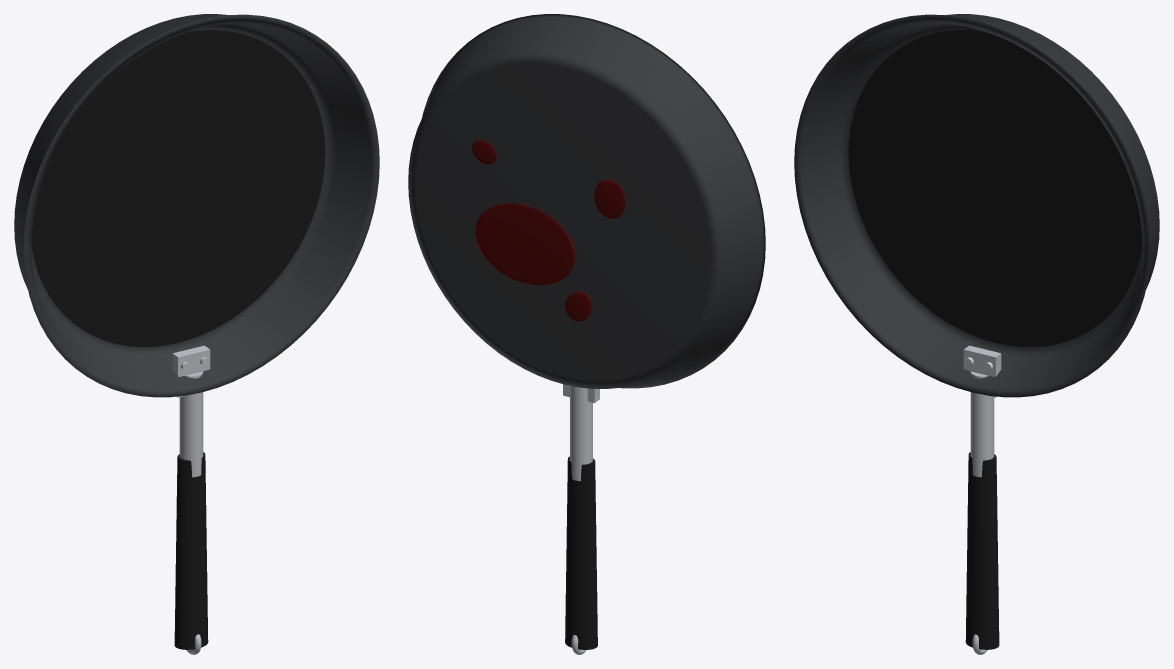
File: sarten.glb
The picture shows the model from 3 angles, left to right: view 1: azimuth 30°, elevation 25°; view 2: azimuth 150°, elevation 25°; view 3: azimuth 330°, elevation 25°; orthographic projection. The views are drawn at different scales.
Parts seen in each view (by area): view 1: fondo_interior, sarten, mango, vastago, soporte; view 2: sarten, base_sangre_1, mango, vastago, base_sangre_2, base_sangre_4; view 3: fondo_interior, sarten, mango, vastago, soporte.
Boxes of the visible parts, left/top/right/bottom form: fondo_interior: left=31, top=30, right=325, bottom=346; sarten: left=14, top=14, right=379, bottom=397; mango: left=174, top=452, right=208, bottom=649; vastago: left=179, top=371, right=203, bottom=477; soporte: left=172, top=345, right=210, bottom=397; sarten: left=408, top=14, right=765, bottom=388; base_sangre_1: left=475, top=203, right=575, bottom=285; mango: left=565, top=456, right=597, bottom=649; vastago: left=570, top=385, right=592, bottom=481; base_sangre_2: left=594, top=179, right=625, bottom=218; base_sangre_4: left=565, top=291, right=591, bottom=321; fondo_interior: left=848, top=30, right=1142, bottom=346; sarten: left=794, top=14, right=1159, bottom=397; mango: left=965, top=452, right=999, bottom=649; vastago: left=970, top=371, right=994, bottom=477; soporte: left=963, top=345, right=1001, bottom=397.
Size of the model in its own units: 1.11 by 1.91 by 0.162.
